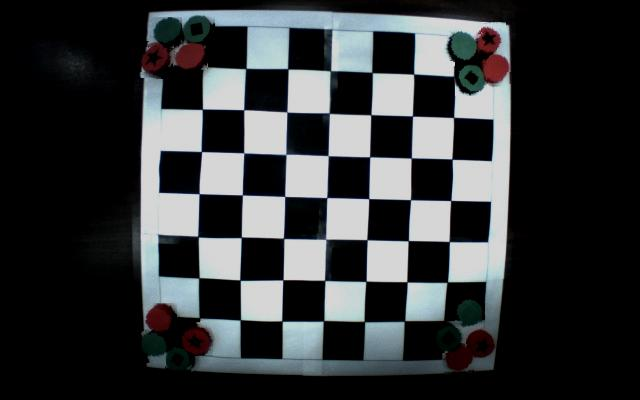G: (455, 60, 488, 96), (432, 321, 466, 353), (182, 14, 215, 45), (166, 346, 194, 376)
R: (138, 41, 175, 78), (472, 22, 506, 59), (177, 322, 213, 356), (467, 329, 497, 360)
g: (444, 27, 481, 66), (149, 17, 185, 52), (451, 294, 485, 328), (137, 329, 170, 363)
r: (145, 304, 178, 338), (174, 42, 209, 73), (481, 51, 512, 86), (444, 344, 474, 374)
